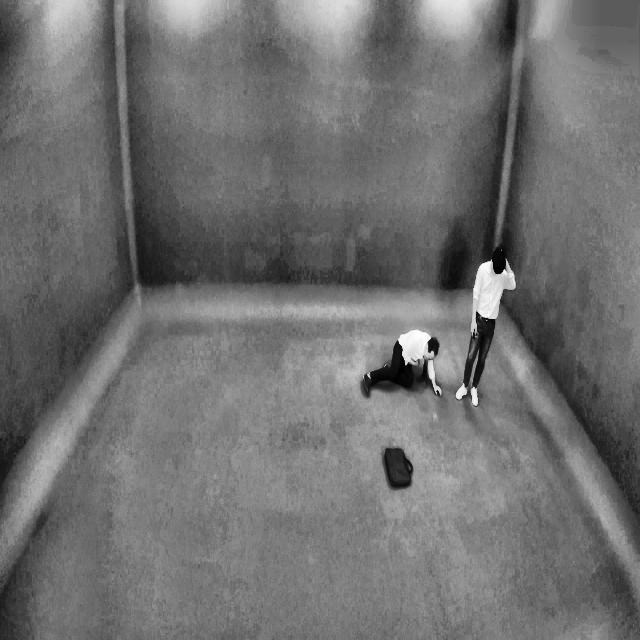assult: (364, 244, 523, 408), (366, 314, 448, 403)
